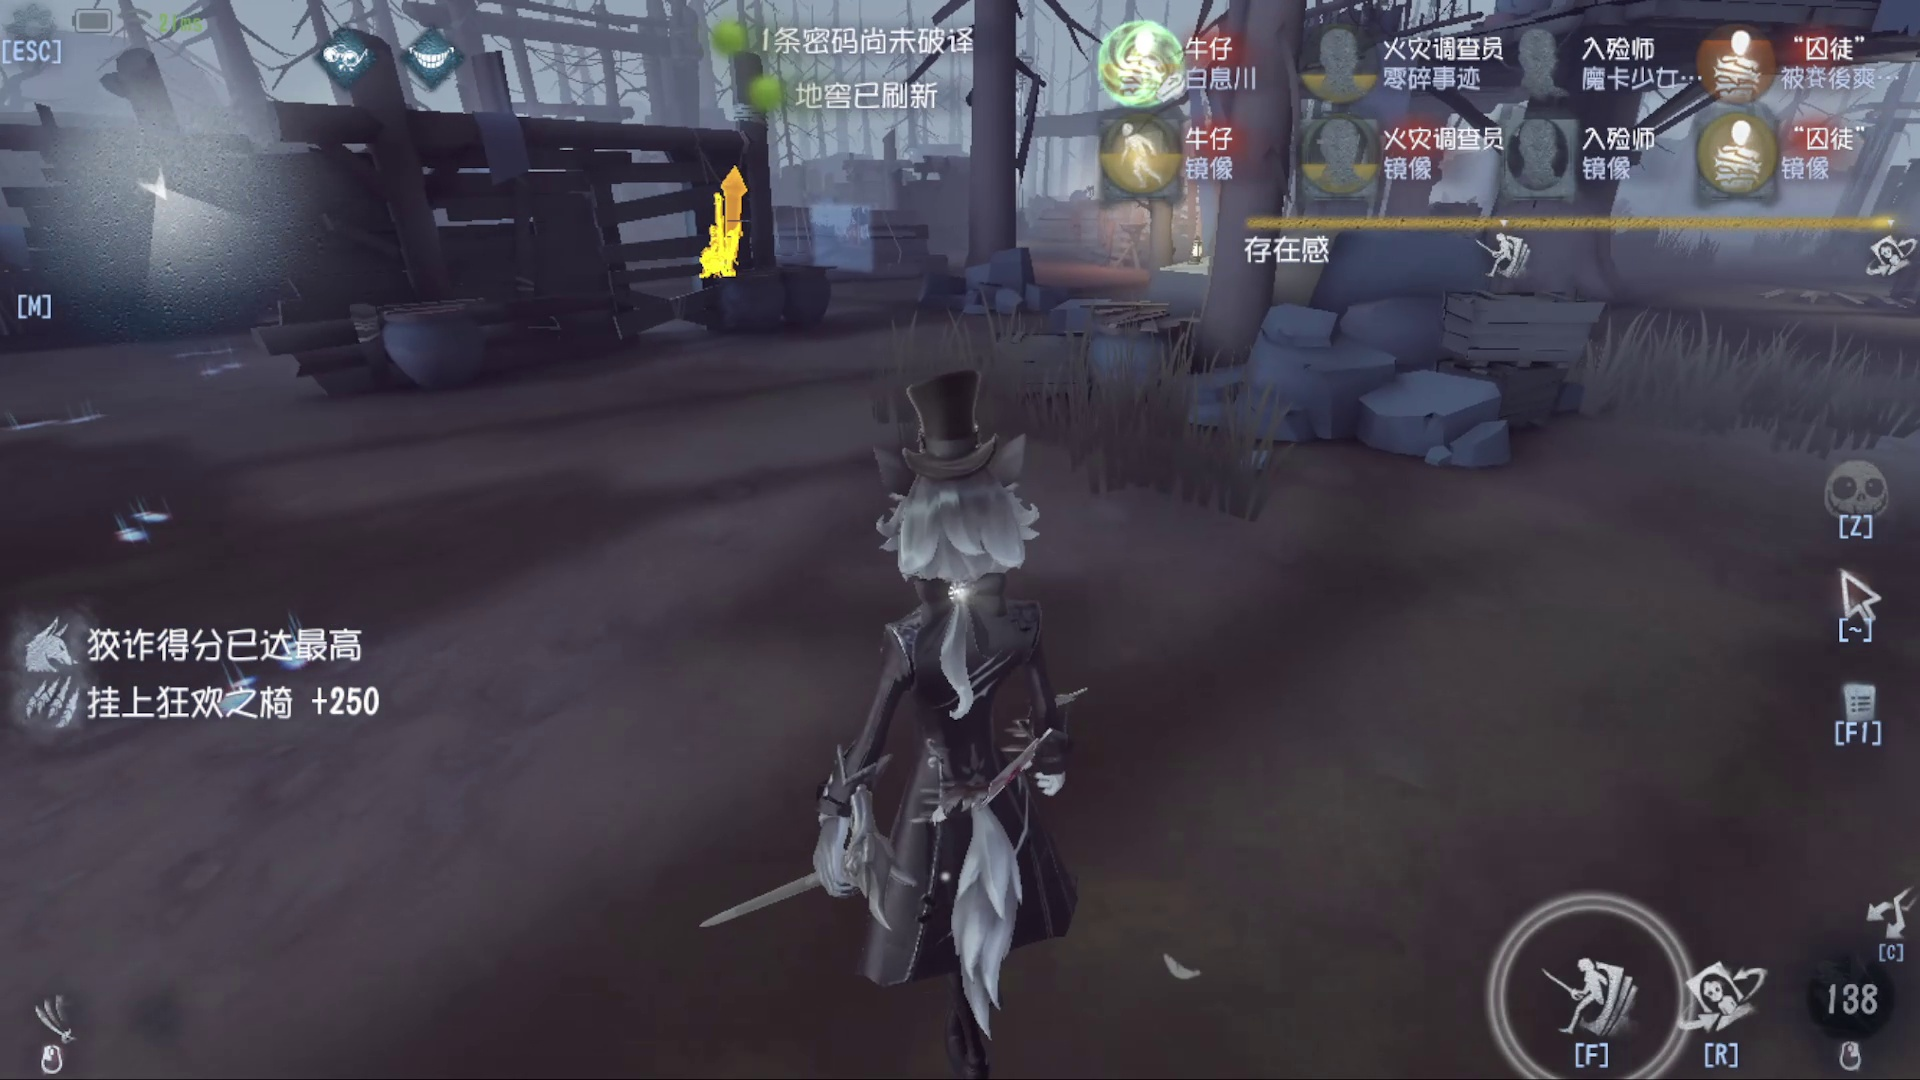狂欢之椅: (680, 150, 760, 286)
